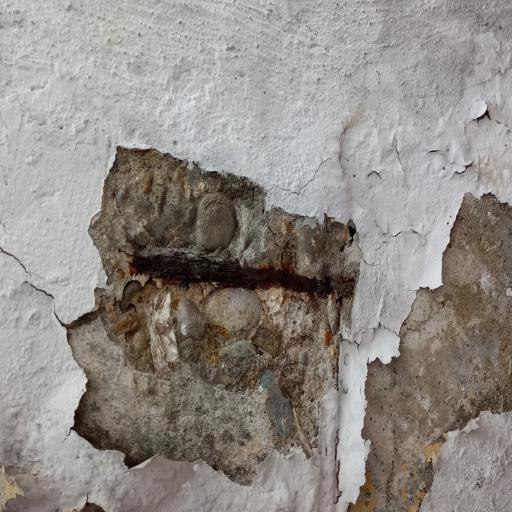exposed_rebar: (131, 252, 336, 297)
spalling: (68, 147, 359, 484), (349, 195, 512, 512)
